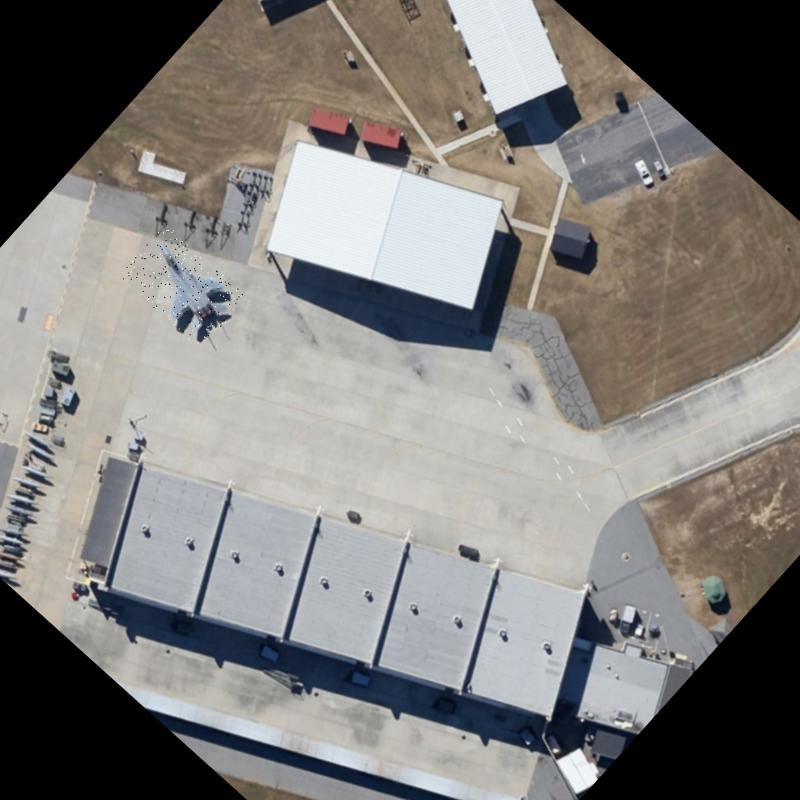A13: (117, 223, 248, 351)
